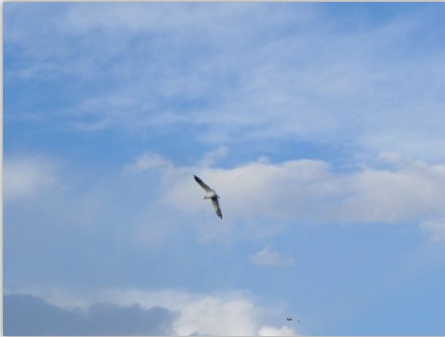bird: (192, 175, 224, 220)
